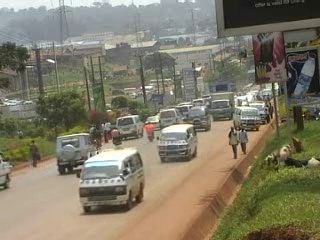Car: (50, 129, 100, 177), (143, 113, 163, 133)
Motorcycle: (88, 128, 104, 153), (109, 122, 123, 146), (144, 120, 155, 143)
